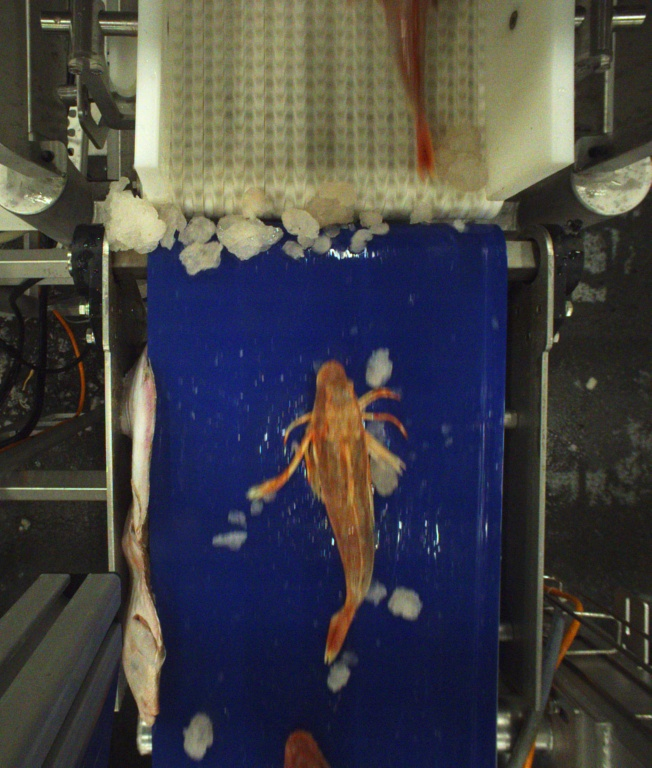GUU: (249, 356, 409, 669)
